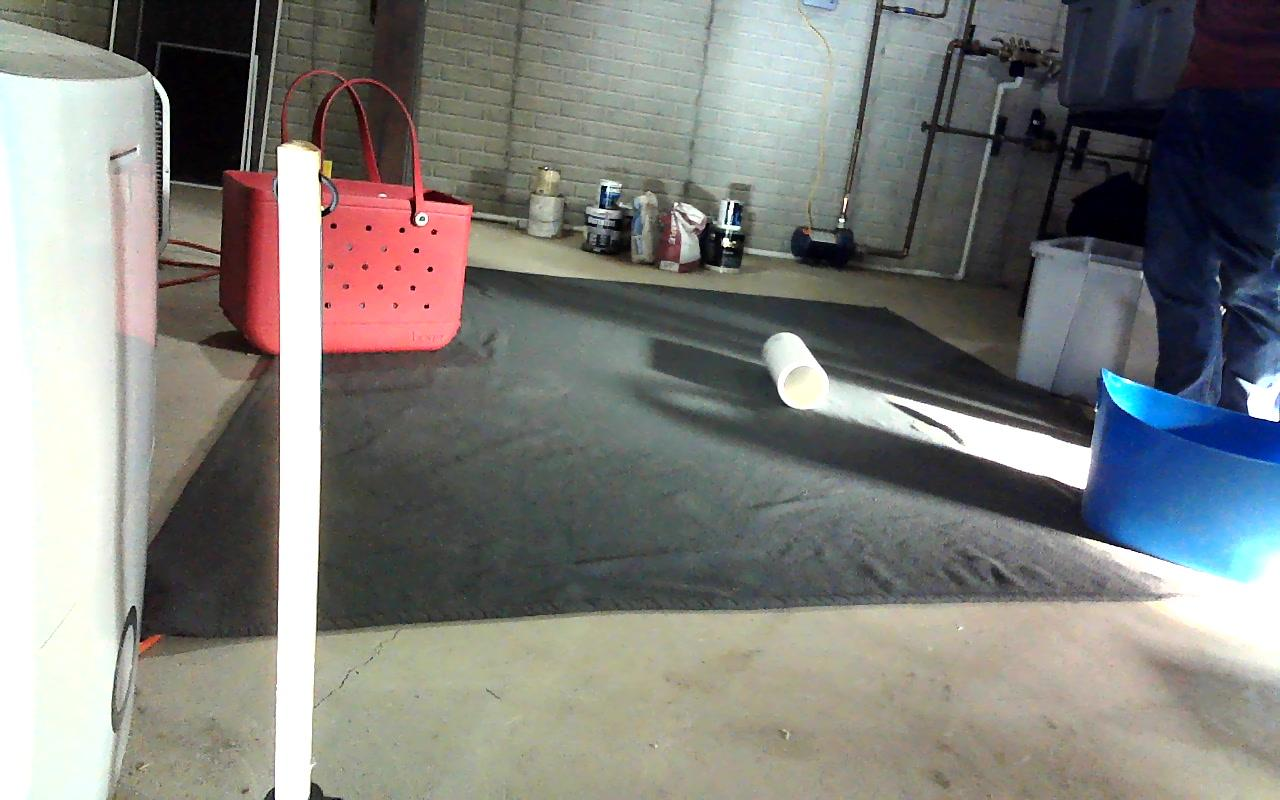coral: (761, 331, 827, 407)
